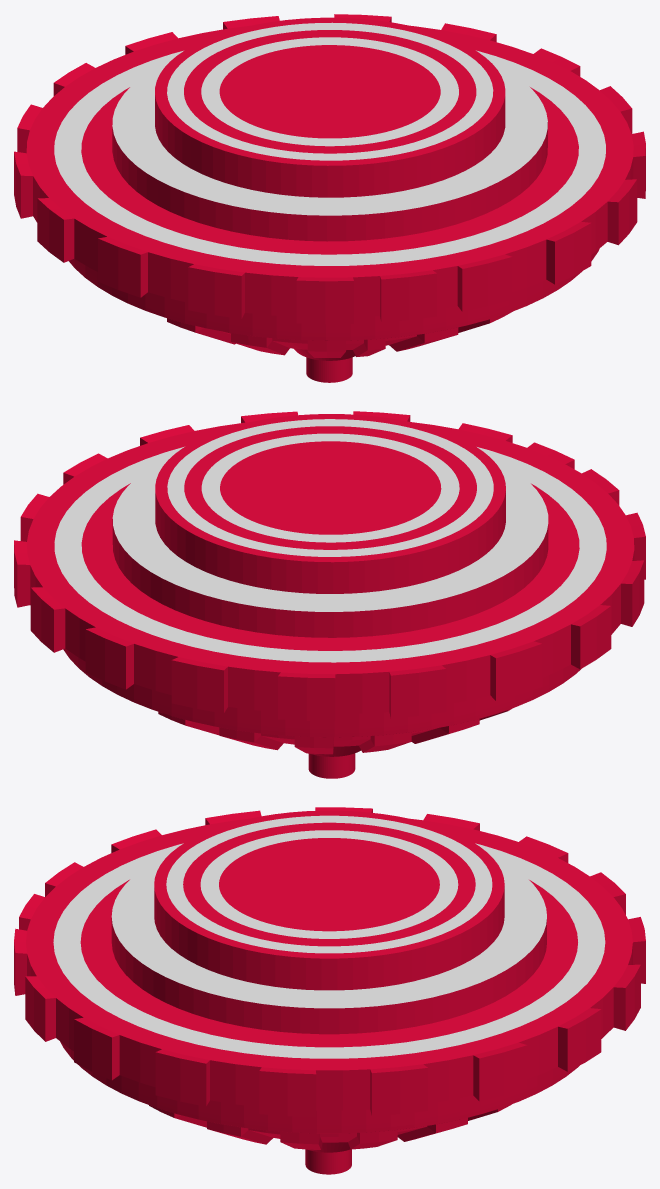
File: Tip-2.fbx
The picture shows the model from 3 angles, top to bottom: view 1: azimuth 30°, elevation 25°; view 2: azimuth 150°, elevation 25°; view 3: azimuth 270°, elevation 25°; orthographic projection.
Parts seen in each view (by area): view 1: Cylinder.001; view 2: Cylinder.001; view 3: Cylinder.001.
Boxes of the visible parts, <box> form: Cylinder.001: <box>14,14,645,382</box>; Cylinder.001: <box>14,411,645,778</box>; Cylinder.001: <box>14,807,645,1174</box>.
Size of the model in its own units: 68.24 by 33.47 by 68.31.
